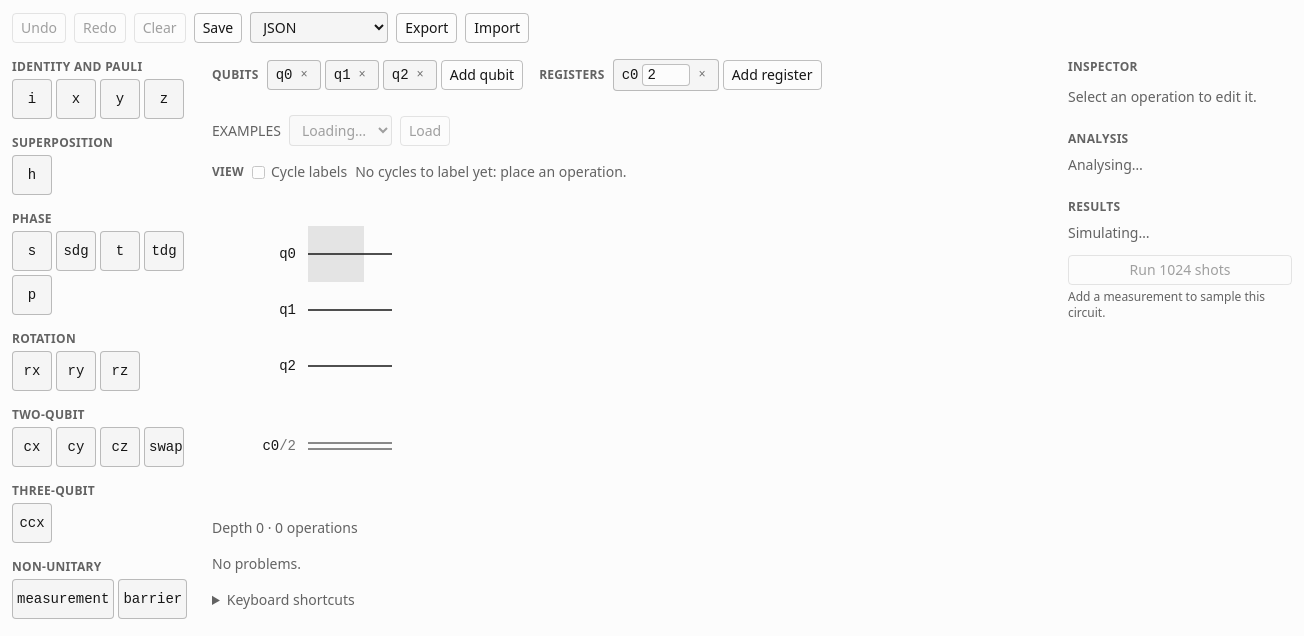
Test: placing a gate › reports what is armed
Click the button "rx". click: (32, 371)
box: x1=12 y1=351 x2=52 y2=391
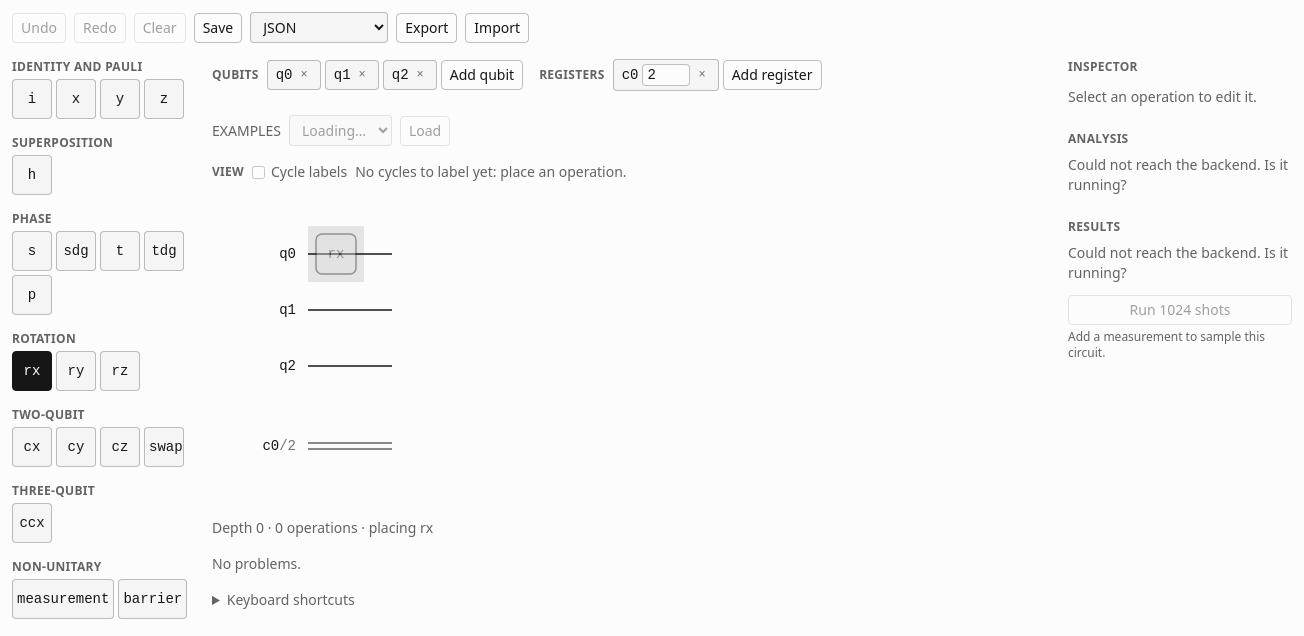
Check: the text "Depth 0 · 0 operations · placing rx" is shown, box x1=212 y1=518 x2=433 y2=537
